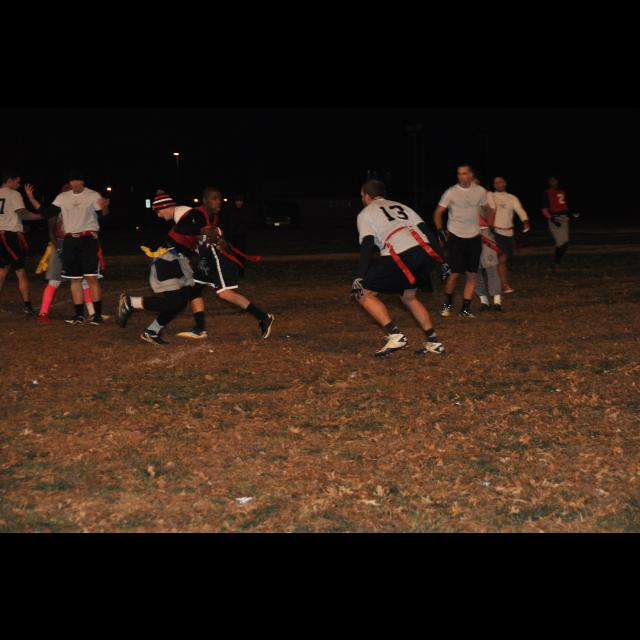Football: (202, 224, 224, 236)
